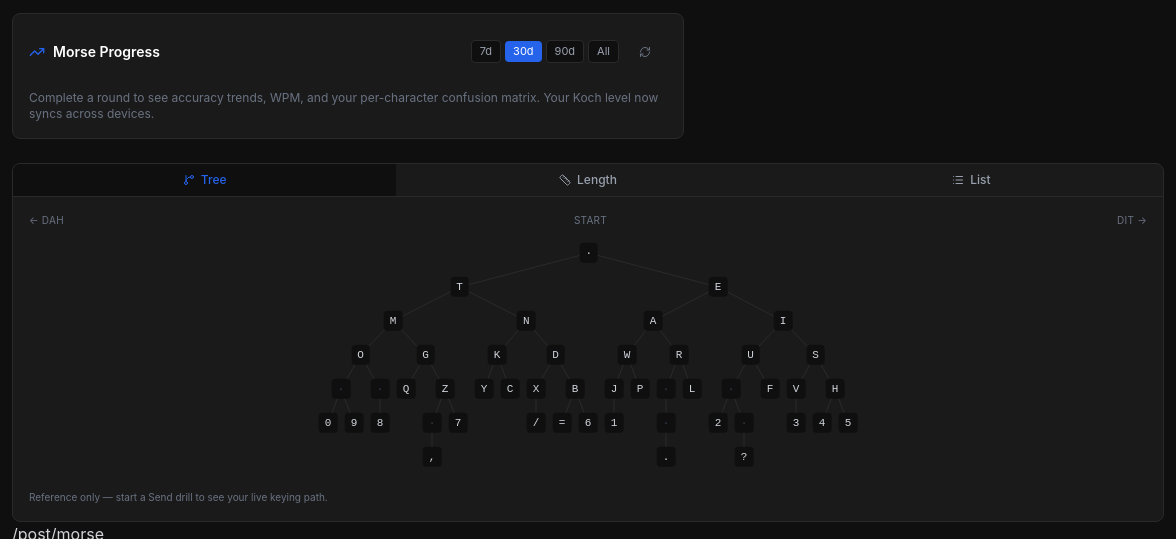
Test: MorseTrainer deep-linking › encodes the selected reference tab in the URL
(page scrolled)
Exact name — a loose /List/ also matches the "Listen to Morse" mode card.
Click the button "List" at (971, 180), box left=780, top=164, right=1163, bottom=196
(page scrolled)
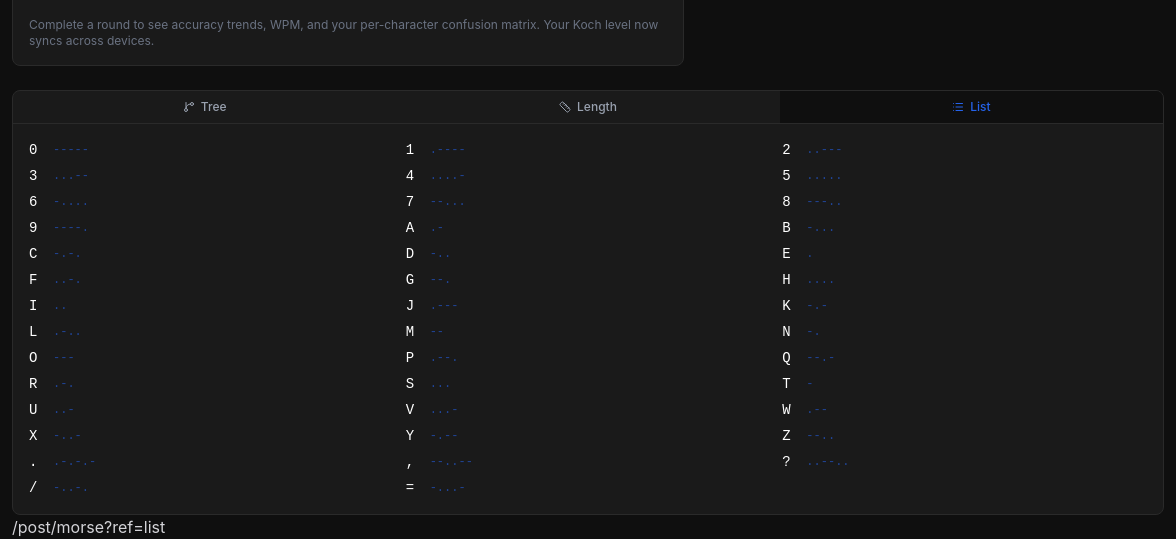
expect the text with test id "loc" reads "/post/morse?ref=list": met, box left=12, top=516, right=165, bottom=536
